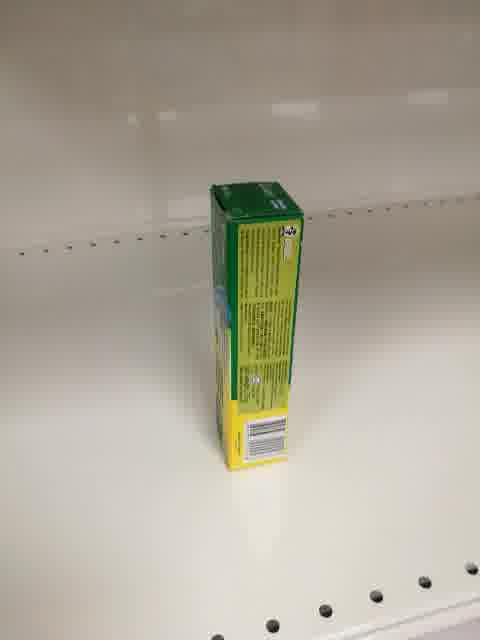toothpaste: (210, 181, 303, 470)
